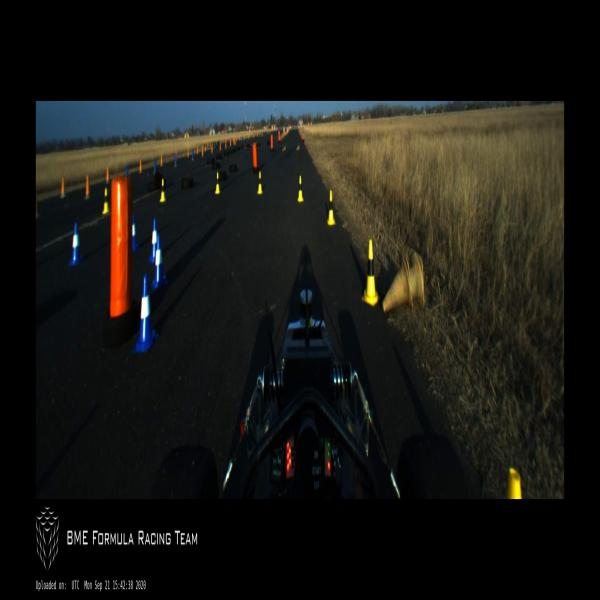blue_cone: (133, 274, 158, 352), (152, 236, 167, 289), (69, 222, 83, 268), (148, 219, 158, 263), (132, 212, 140, 255)
yellow_cone: (362, 240, 380, 308), (326, 189, 335, 226), (296, 174, 304, 204), (102, 188, 110, 214), (257, 168, 263, 194), (160, 178, 166, 200), (215, 172, 220, 194)
